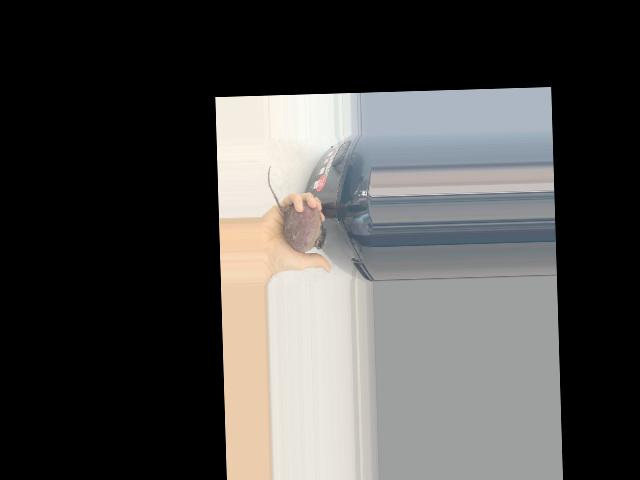beet: (267, 163, 326, 252)
